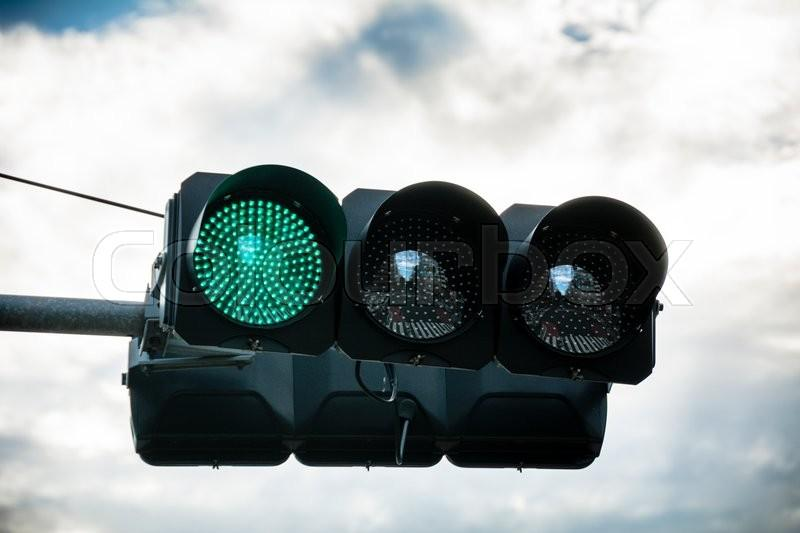Traffic light green: (164, 163, 674, 373)
